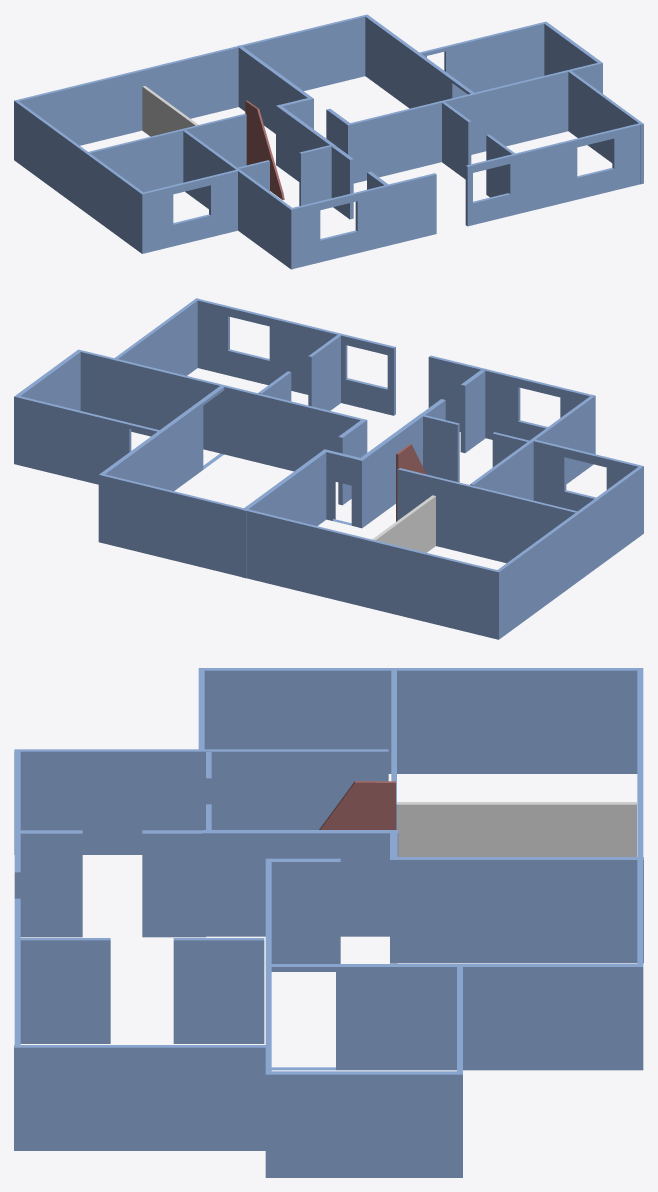
Rendered from Paredes1erpiso.fbx.
3 views of the same model, one above another, from view 1: azimuth 30°, elevation 25°; view 2: azimuth 150°, elevation 25°; view 3: azimuth 270°, elevation 25° (orthographic). The views are drawn at different scales.
Visible parts, largest first — view 1: Cube.009, Cube.011, Cube.004, Cube.010, Cube, Cube.001, Cube.005, Cube.016, Cube.015, Cube.003, Cube.006, Cube.046 (+11 smaller); view 2: Cube.009, Cube.011, Cube.010, Cube.004, Cube.001, Cube.016, Cube, Cube.015, Cube.005, Cube.046, Cube.014, Cube.003 (+11 smaller); view 3: Cube.010, Cube.015, Cube.005, Cube.006, Cube.046, Cube.017, Cube.014, Cube.002, Cube.012, Cube.013, Cube.049, Cube.021 (+8 smaller).
Part boxes in pixels (x1,y1,x2,y2): Cube.009: (14, 14, 368, 160); Cube.011: (346, 62, 600, 183); Cube.004: (465, 123, 640, 226); Cube.010: (15, 101, 145, 253); Cube: (291, 173, 436, 268); Cube.001: (88, 113, 246, 192); Cube.005: (183, 130, 294, 269); Cube.016: (419, 22, 544, 97); Cube.015: (365, 15, 474, 108); Cube.003: (144, 170, 237, 253); Cube.006: (568, 71, 643, 184); Cube.046: (238, 45, 311, 133); Cube.009: (98, 473, 500, 639); Cube.011: (80, 350, 367, 471); Cube.010: (497, 465, 643, 637); Cube.004: (197, 299, 395, 415); Cube.001: (397, 468, 576, 563); Cube.016: (17, 396, 159, 484); Cube: (428, 355, 591, 440); Cube.015: (101, 386, 224, 490); Cube.005: (470, 394, 595, 500); Cube.046: (241, 450, 327, 578); Cube.014: (357, 413, 425, 528); Cube.003: (533, 439, 639, 511); Cube.010: (198, 668, 637, 773); Cube.015: (271, 964, 637, 1070); Cube.005: (14, 749, 388, 854); Cube.006: (14, 1045, 265, 1150); Cube.046: (397, 857, 643, 963); Cube.017: (265, 1071, 462, 1177); Cube.014: (202, 830, 398, 936); Cube.002: (397, 802, 636, 856); Cube.012: (173, 938, 264, 1043); Cube.013: (20, 938, 110, 1043); Cube.049: (266, 858, 340, 963); Cube.021: (142, 830, 206, 937).
Size of the model in its own units: 7851 by 1139 by 5143.
